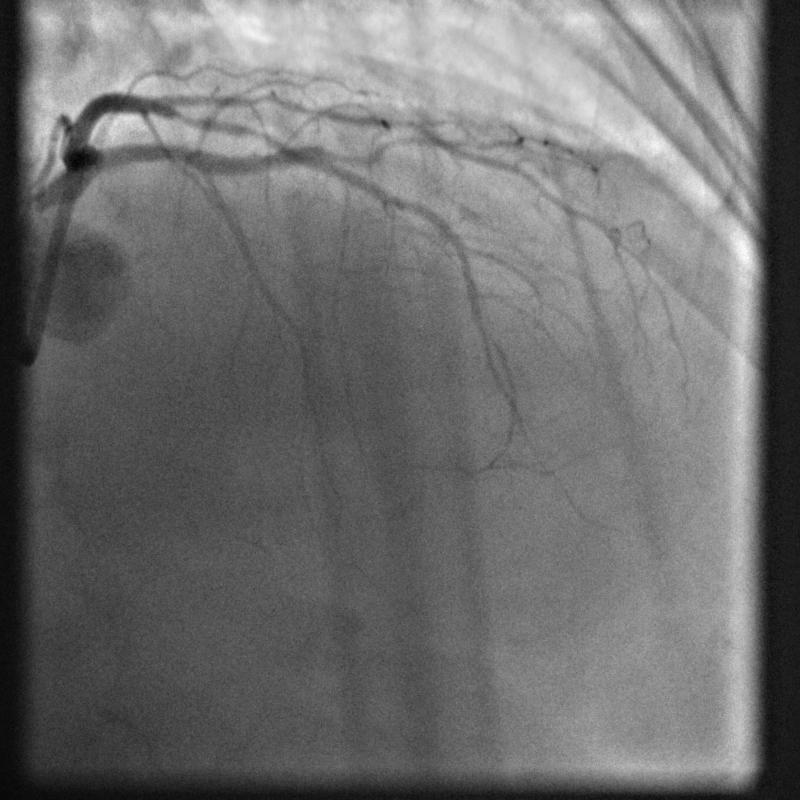Stenosis: (165, 105, 226, 136)
